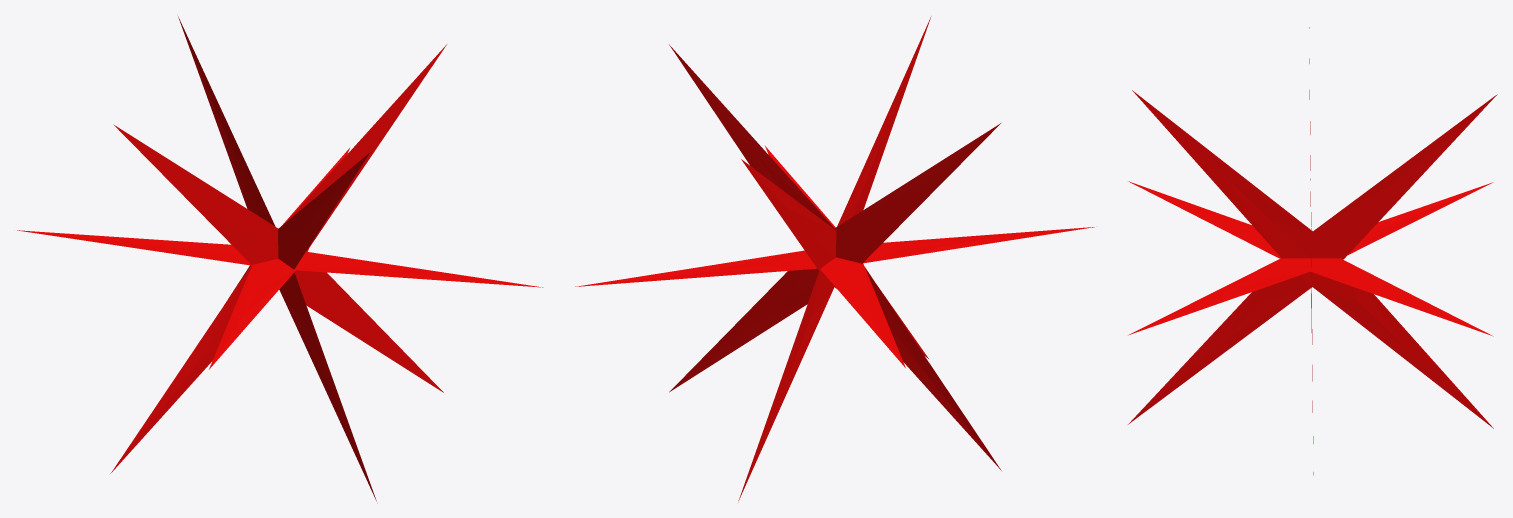
Rendered from explode.FBX.
The picture shows the model from 3 angles, left to right: view 1: azimuth 30°, elevation 25°; view 2: azimuth 150°, elevation 25°; view 3: azimuth 270°, elevation 25°; orthographic projection. The views are drawn at different scales.
Parts seen in each view (by area): view 1: VIFS003, VIFS002, VIFS001; view 2: VIFS003, VIFS002, VIFS001; view 3: VIFS003, VIFS002, VIFS001.
Part boxes in pixels (bbox=[...]): VIFS003: bbox=[17, 16, 543, 501]; VIFS002: bbox=[147, 137, 410, 380]; VIFS001: bbox=[213, 198, 345, 319]; VIFS003: bbox=[575, 16, 1094, 501]; VIFS002: bbox=[705, 138, 965, 380]; VIFS001: bbox=[770, 198, 900, 319]; VIFS003: bbox=[1128, 27, 1497, 475]; VIFS002: bbox=[1219, 174, 1405, 344]; VIFS001: bbox=[1264, 203, 1359, 303].
Size of the model in its own units: 1.96 by 1.97 by 1.97.
